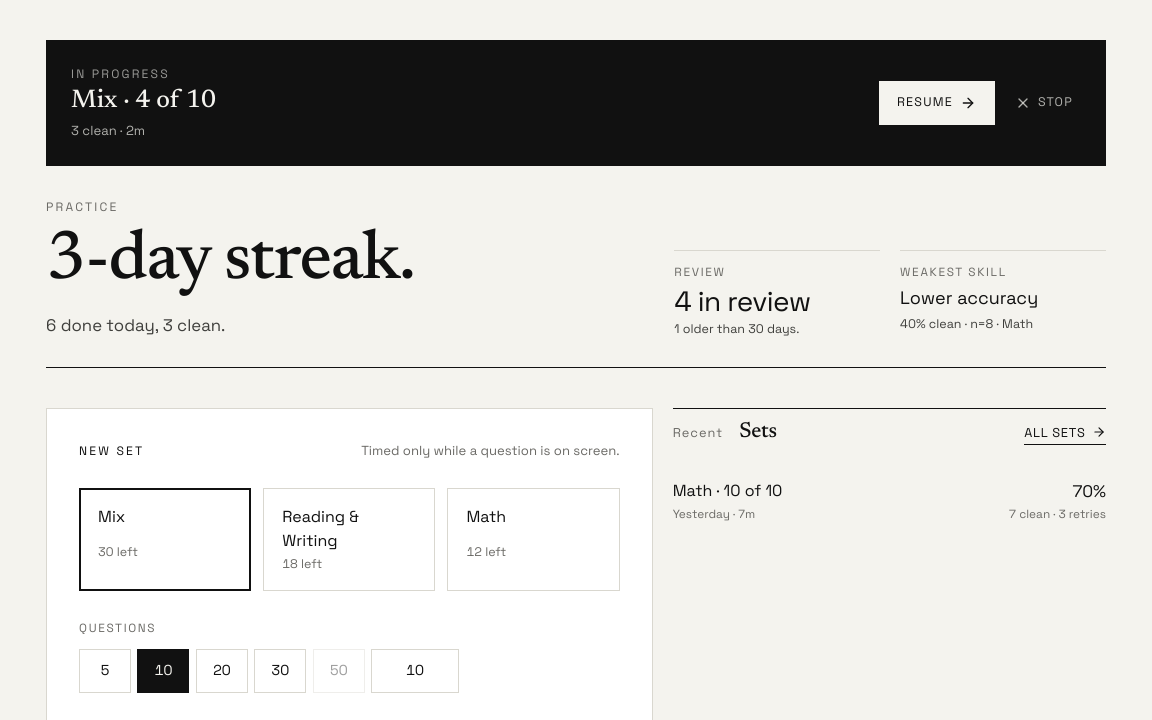
Test: PracticePage › puts an unfinished set first and blocks a new one until it is stopped
Expected: the heading "Mix · 4 of 10" is shown, [71,88,216,114]
Expected: the text "3 clean · 2m" is shown, [71,122,145,139]
Step 1. Click the button "Stop" → [1044, 103], box [1007,81,1081,125]
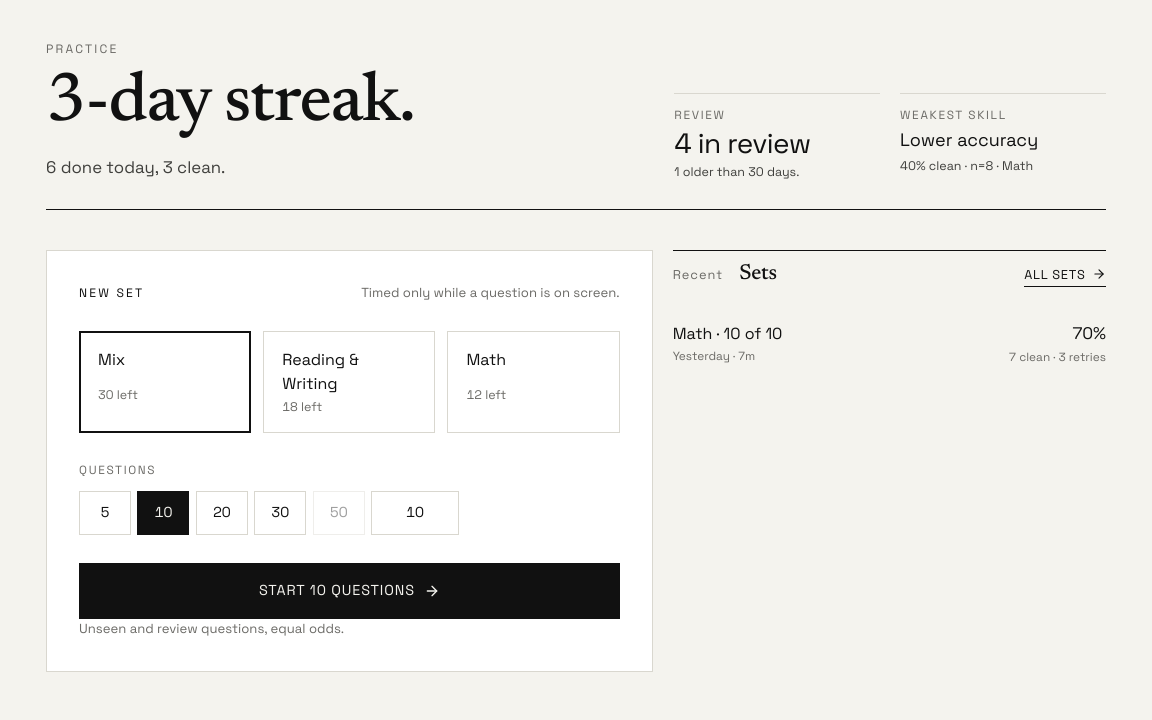
Now the heading "Mix · 4 of 10" is gone
Now the button "Start 10 questions" is enabled, box [79,563,620,619]
